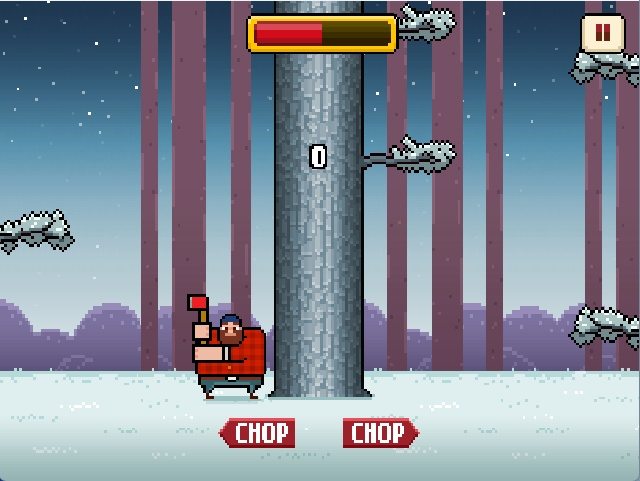right_obs: (360, 128, 461, 189)
timberman: (181, 291, 275, 408)
